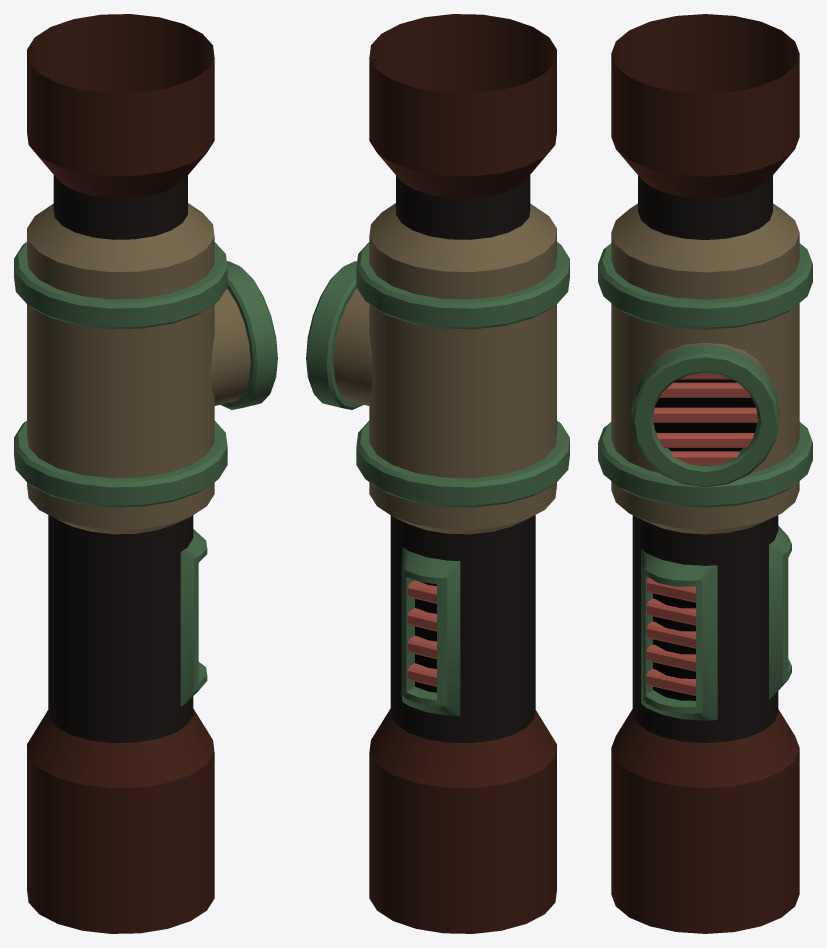
The model's file is OBJ_VAR_3_Tuyau_0_LOD.fbx.
3 renders of one model, left to right at view 1: azimuth 30°, elevation 25°; view 2: azimuth 150°, elevation 25°; view 3: azimuth 270°, elevation 25°, orthographic.
Visible parts, largest first — view 1: OBJ_VAR_3_Tuyau_0_LOD; view 2: OBJ_VAR_3_Tuyau_0_LOD; view 3: OBJ_VAR_3_Tuyau_0_LOD.
Boxes of the visible parts, x1=… form: OBJ_VAR_3_Tuyau_0_LOD: x1=14, y1=14, x2=277, y2=933; OBJ_VAR_3_Tuyau_0_LOD: x1=306, y1=14, x2=569, y2=933; OBJ_VAR_3_Tuyau_0_LOD: x1=598, y1=14, x2=812, y2=933.
Bounding box in the file's own units: 1603 × 6000 × 1389.
